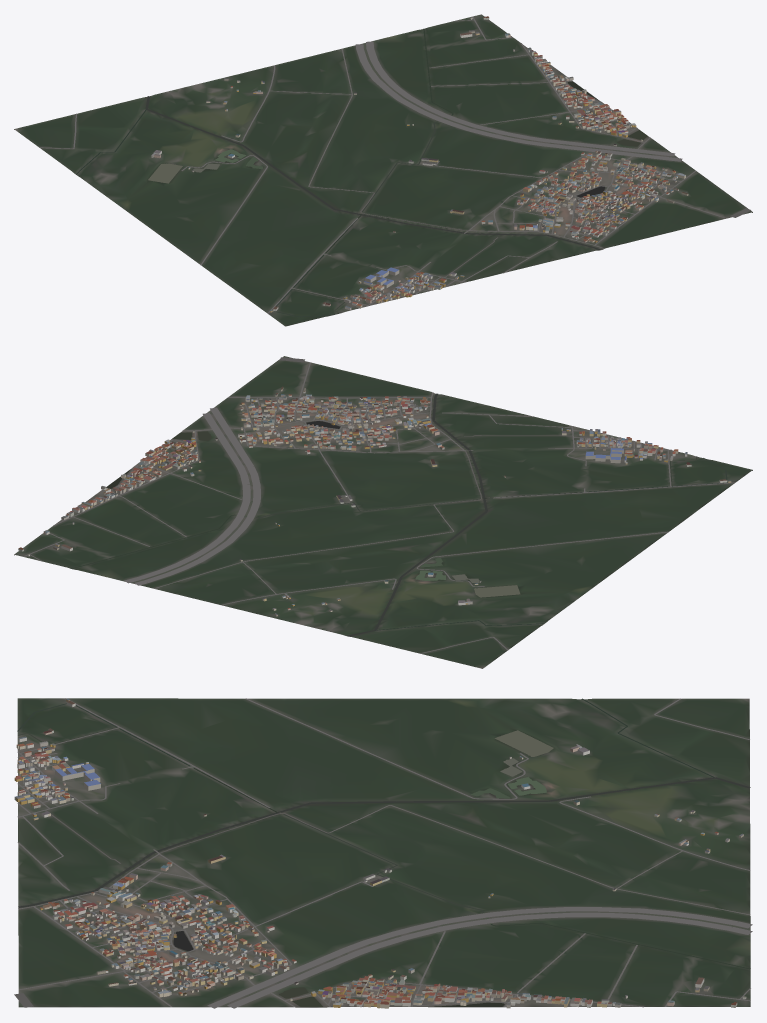
3 views of the same model, one above another, from view 1: azimuth 30°, elevation 25°; view 2: azimuth 150°, elevation 25°; view 3: azimuth 270°, elevation 25° (orthographic). The views are drawn at different scales.
Visible parts, largest first — view 1: ground, buildings, roads, water; view 2: ground, buildings, roads, water; view 3: ground, buildings, roads, water.
Boxes of the visible parts, <box> form: ground: <box>14,14,752,326</box>; buildings: <box>151,16,688,312</box>; roads: <box>39,16,751,313</box>; water: <box>76,28,647,317</box>; ground: <box>14,356,752,668</box>; buildings: <box>18,386,731,616</box>; roads: <box>23,357,735,653</box>; water: <box>71,393,727,636</box>; ground: <box>17,698,750,1007</box>; buildings: <box>14,698,746,1008</box>; roads: <box>14,698,752,1008</box>; water: <box>17,698,750,1006</box>.
Size of the model in its own units: 1409 by 16.74 by 1415.
